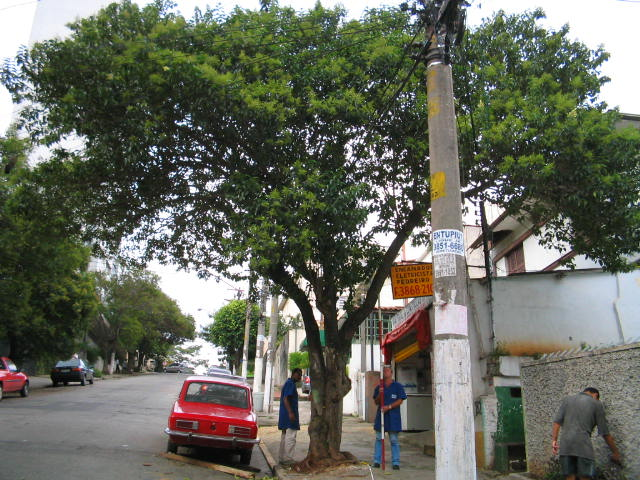crown: (6, 3, 639, 304)
stem: (303, 354, 356, 464)
stick: (372, 289, 385, 473)
tree: (3, 1, 639, 467)
